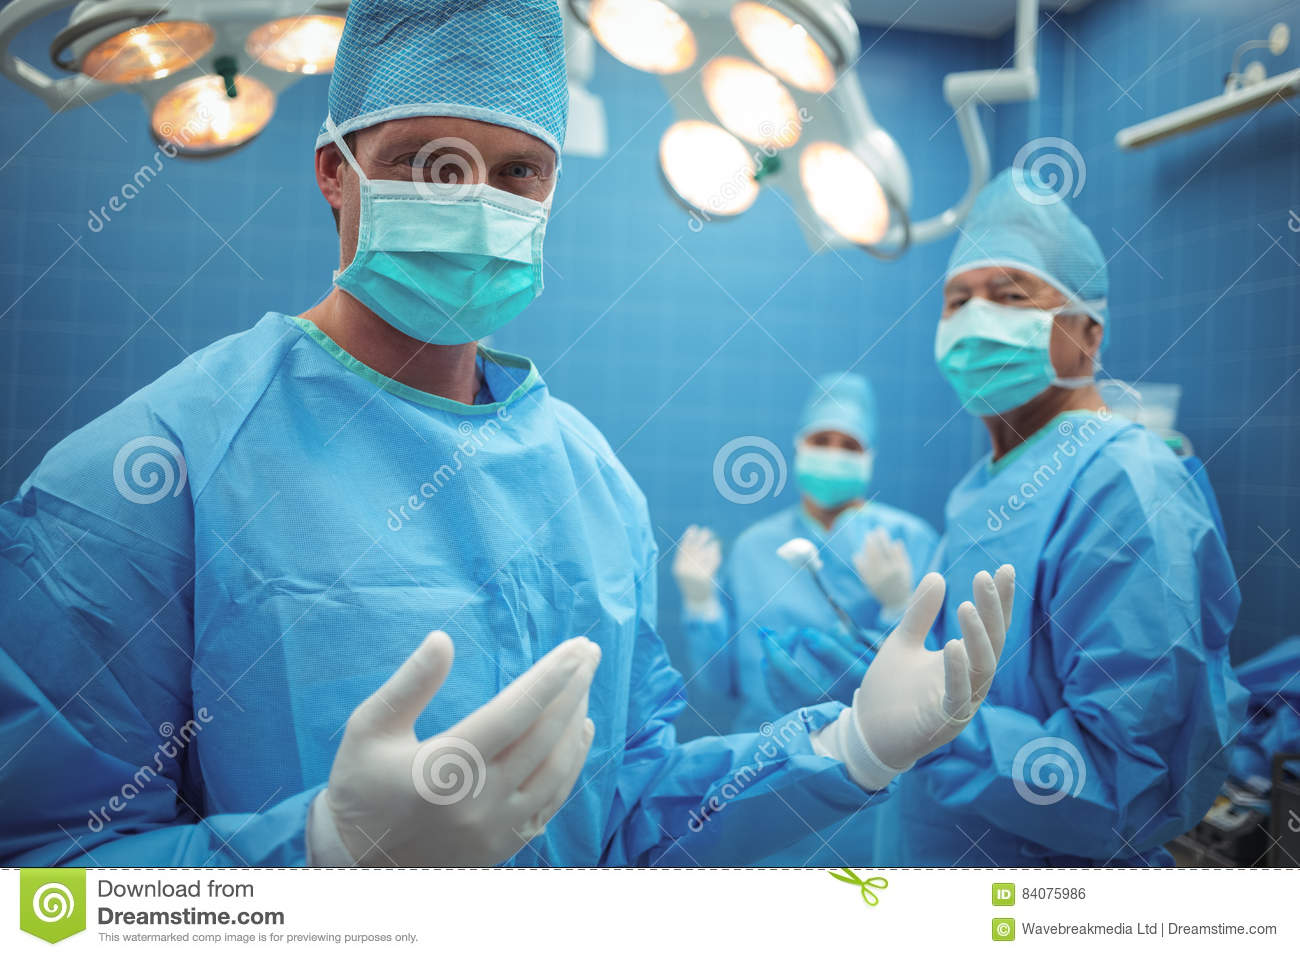mask: (341, 173, 544, 364), (926, 307, 1073, 402)
